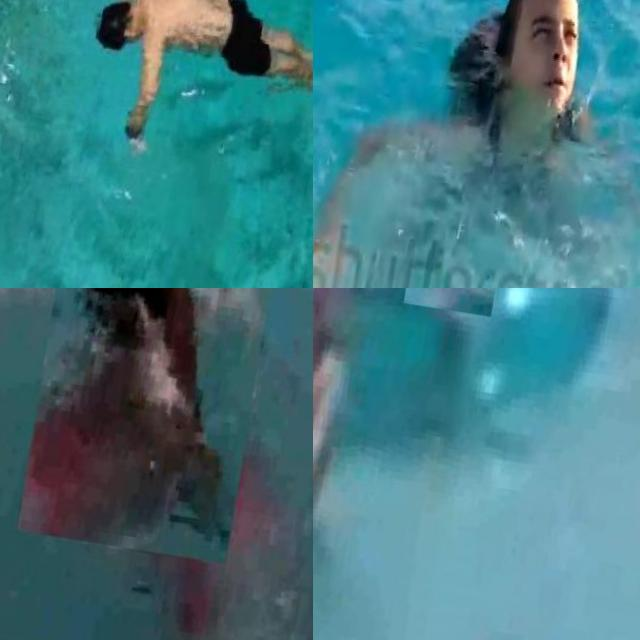drowning: (16, 288, 285, 566), (391, 0, 640, 288), (75, 0, 313, 176)
swimming: (313, 288, 374, 584), (403, 288, 506, 319)
